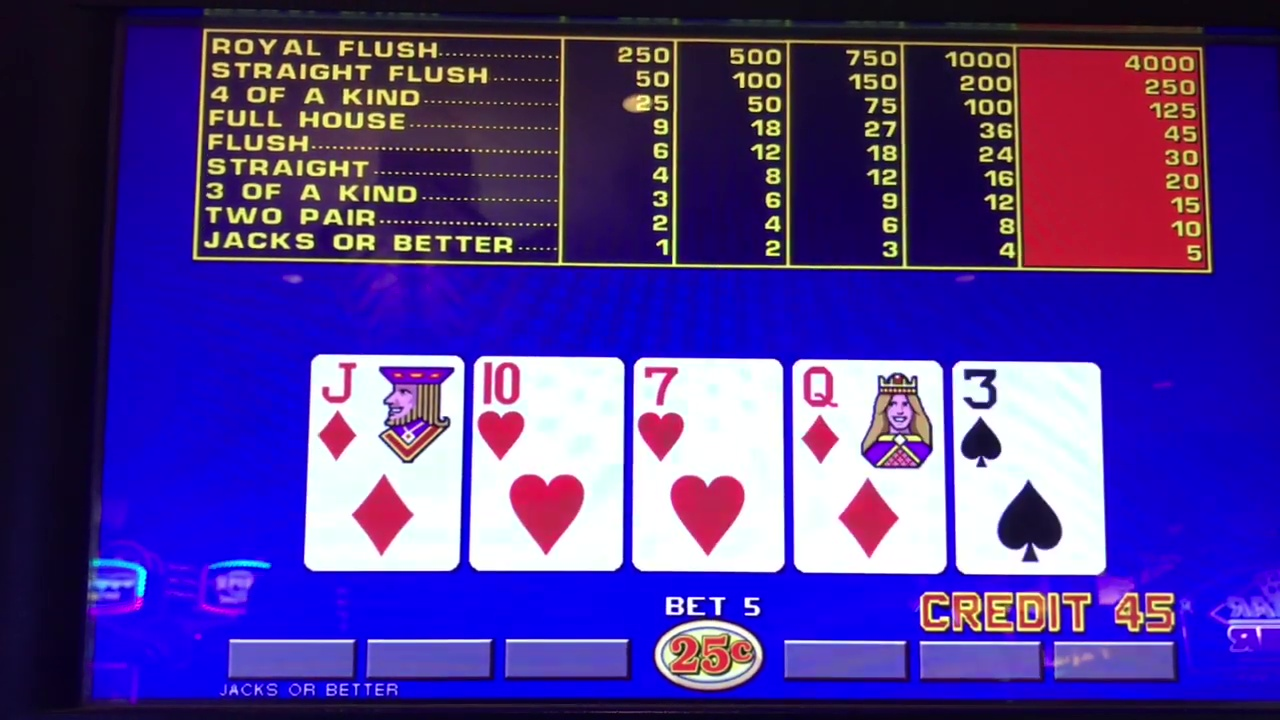DJ: (313, 355, 458, 473)
DQ: (795, 360, 938, 475)
H7: (635, 359, 779, 474)
HT: (477, 358, 615, 473)
S3: (959, 363, 1100, 477)
